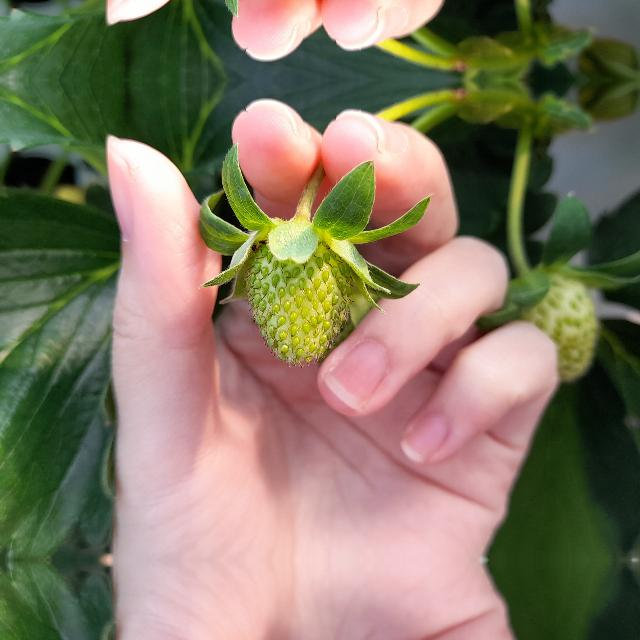Health_25: (244, 240, 354, 366)
